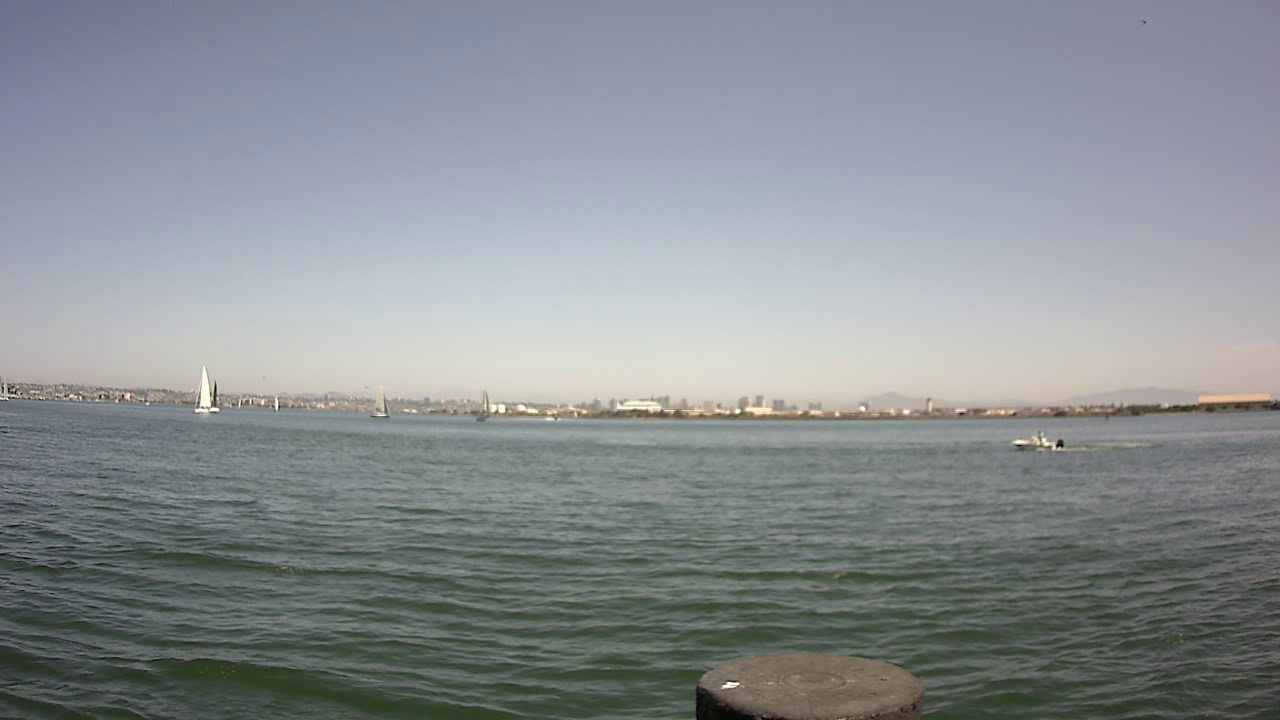target: (1005, 427, 1076, 459)
